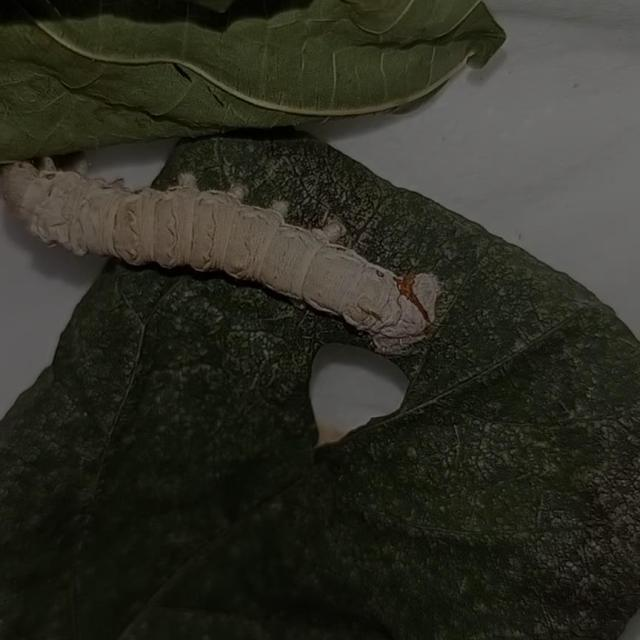Healthy: (1, 133, 447, 353)
